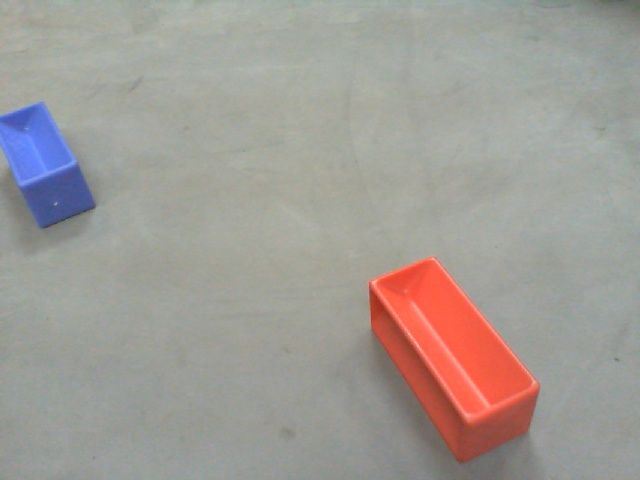BlueSample: (1, 99, 100, 232)
RedSample: (364, 252, 541, 467)
